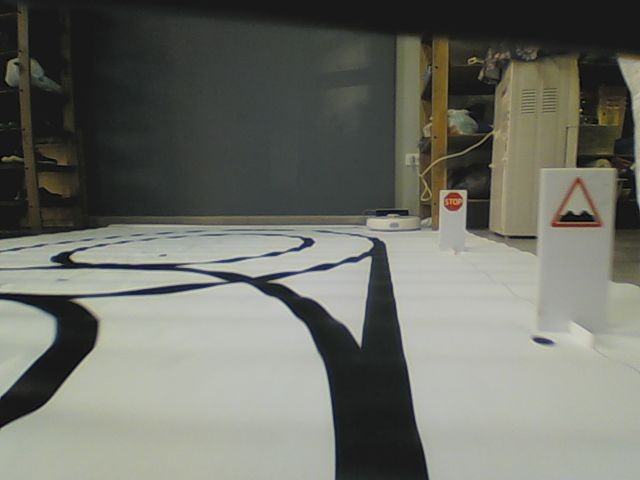Stop: (443, 191, 463, 212)
